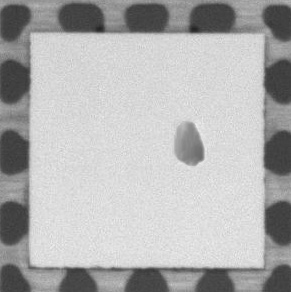DIE_INK: (170, 121, 205, 165)
